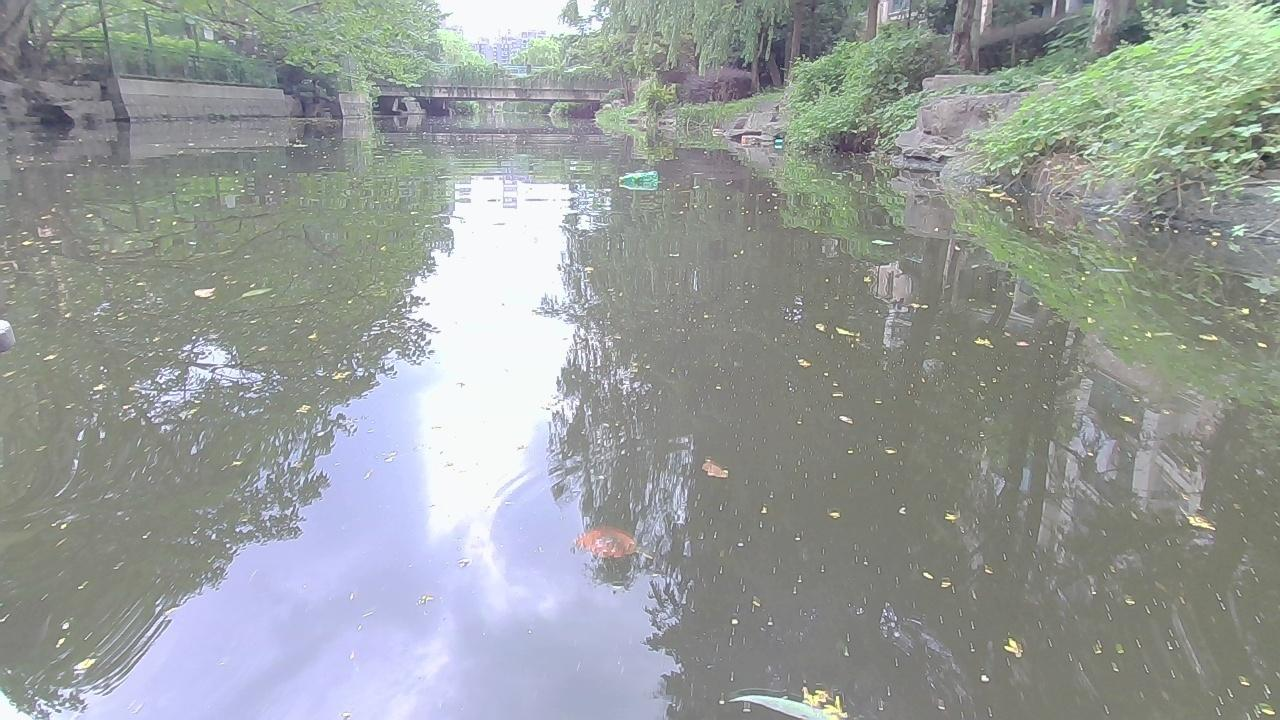bottle: (616, 169, 657, 185)
